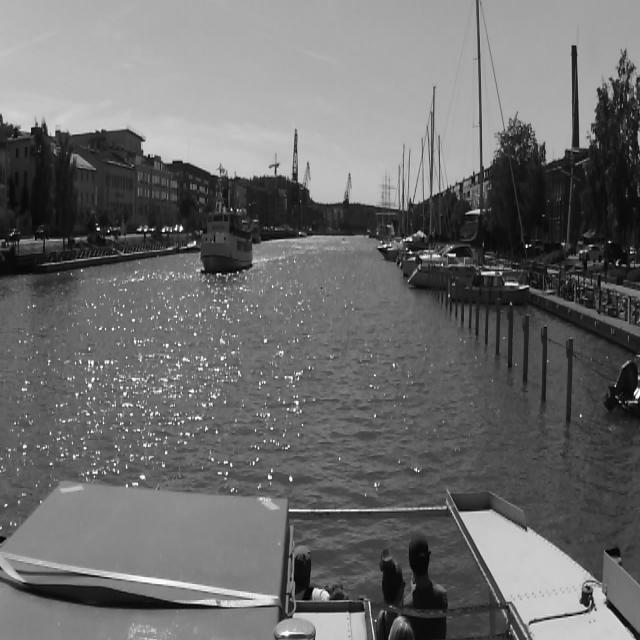ship: (407, 35, 485, 292), (199, 162, 252, 278), (198, 208, 252, 266), (445, 270, 531, 305), (603, 348, 639, 422)
